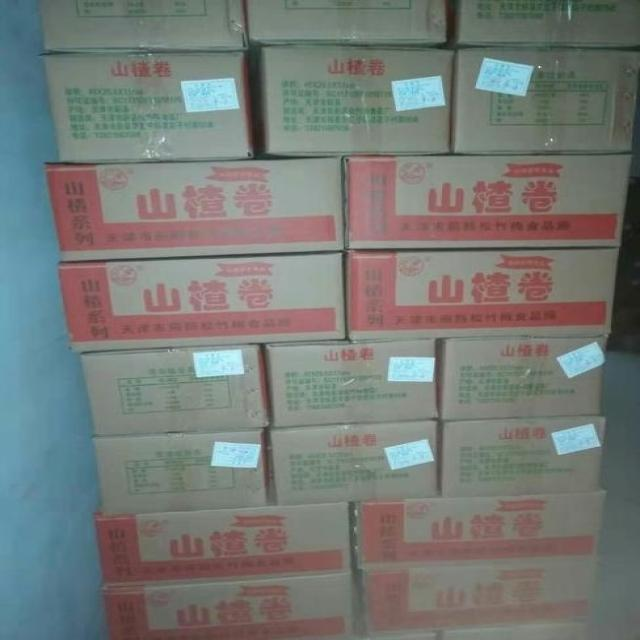box: (45, 155, 348, 264), (61, 252, 345, 356), (345, 153, 635, 252), (347, 249, 623, 340), (40, 51, 252, 163), (93, 501, 354, 589), (254, 47, 455, 155), (353, 489, 606, 570), (455, 46, 639, 153), (354, 562, 599, 636), (77, 346, 271, 437), (102, 570, 356, 639), (263, 339, 443, 428), (95, 427, 273, 515), (271, 419, 444, 504), (440, 335, 609, 420), (440, 415, 604, 495), (40, 1, 247, 52), (452, 0, 639, 48), (246, 1, 453, 44), (442, 624, 590, 638), (356, 628, 443, 638)
